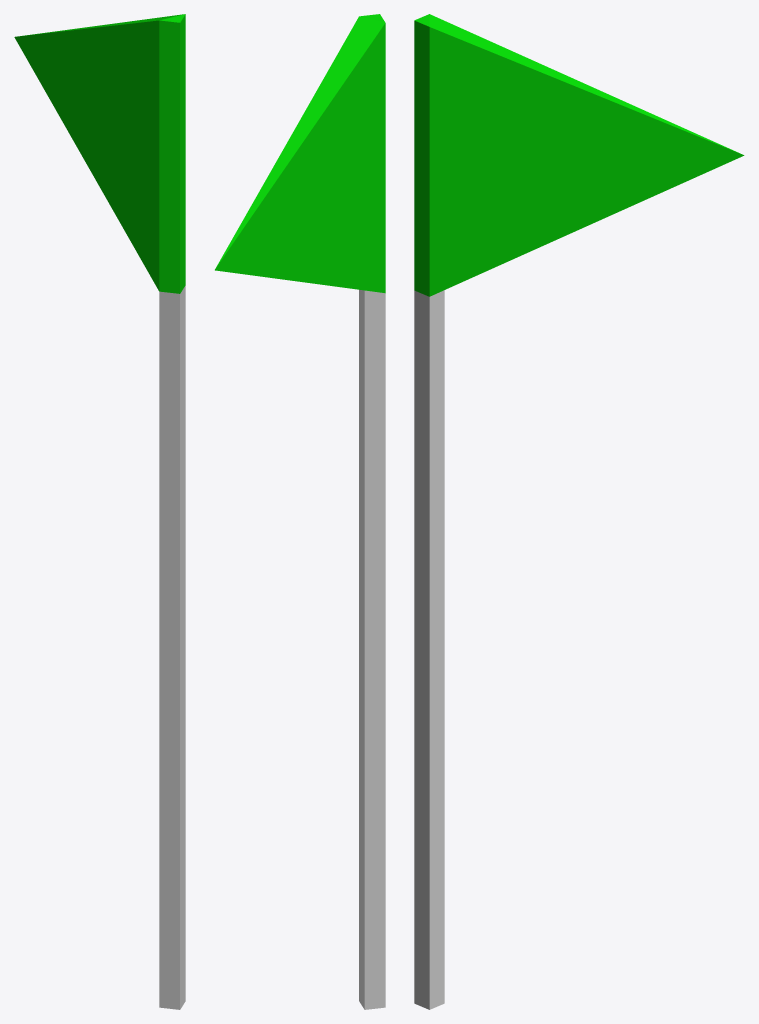
The model's file is m_checkpoint.fbx.
3 views of the same model, side by side, from view 1: azimuth 30°, elevation 25°; view 2: azimuth 150°, elevation 25°; view 3: azimuth 270°, elevation 25° (orthographic).
Visible parts, largest first — view 1: sm_checkpoint; view 2: sm_checkpoint; view 3: sm_checkpoint.
Boxes of the visible parts, x1=… form: sm_checkpoint: x1=14, y1=14, x2=185, y2=1009; sm_checkpoint: x1=215, y1=14, x2=385, y2=1009; sm_checkpoint: x1=414, y1=14, x2=744, y2=1009.
Bounding box in the file's own units: 4.46 × 158 × 48.27.
